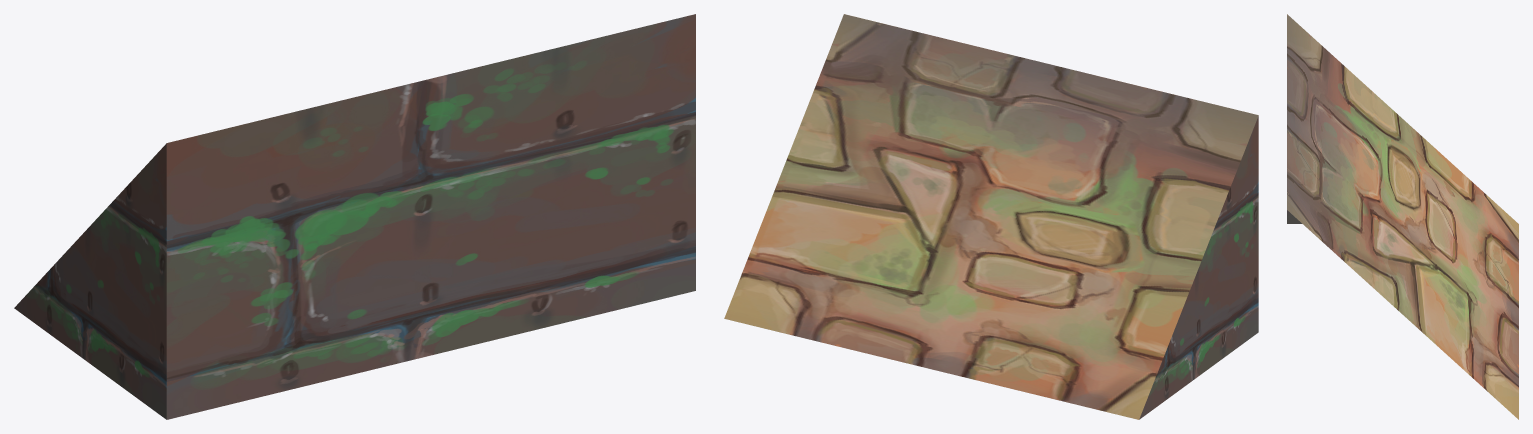
Rendered from SlopeFloorRight1x2.FBX.
3 views of the same model, side by side, from view 1: azimuth 30°, elevation 25°; view 2: azimuth 150°, elevation 25°; view 3: azimuth 270°, elevation 25° (orthographic). The views are drawn at different scales.
Parts seen in each view (by area): view 1: Box033; view 2: Box033; view 3: Box033.
Part boxes in pixels (x1,y1,x2,y2): Box033: (14,14,695,419); Box033: (724,14,1258,419); Box033: (1287,14,1518,419).
Bounding box in the file's own units: 128 × 64 × 64.
2 materials, 2 textured.
